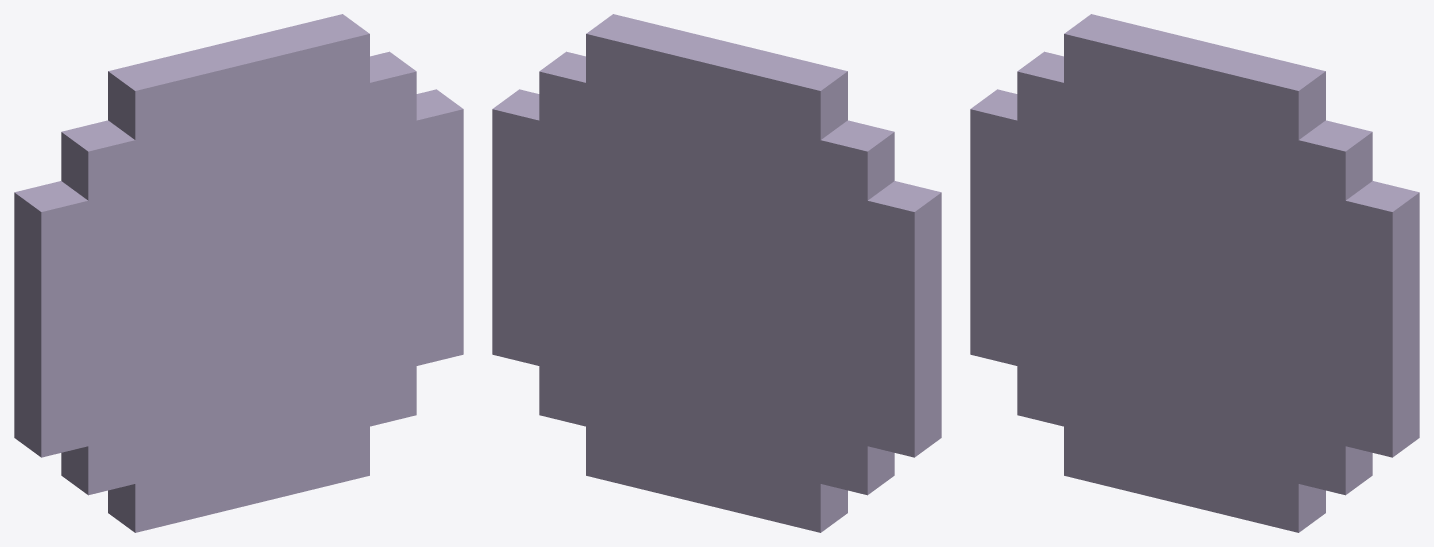
Rendered from Shield-Large-Grey.vox.obj.
3 renders of one model, left to right at view 1: azimuth 30°, elevation 25°; view 2: azimuth 150°, elevation 25°; view 3: azimuth 330°, elevation 25°, orthographic.
Size of the model in its own units: 0.9 by 0.9 by 0.1.
1 material, 1 textured.
